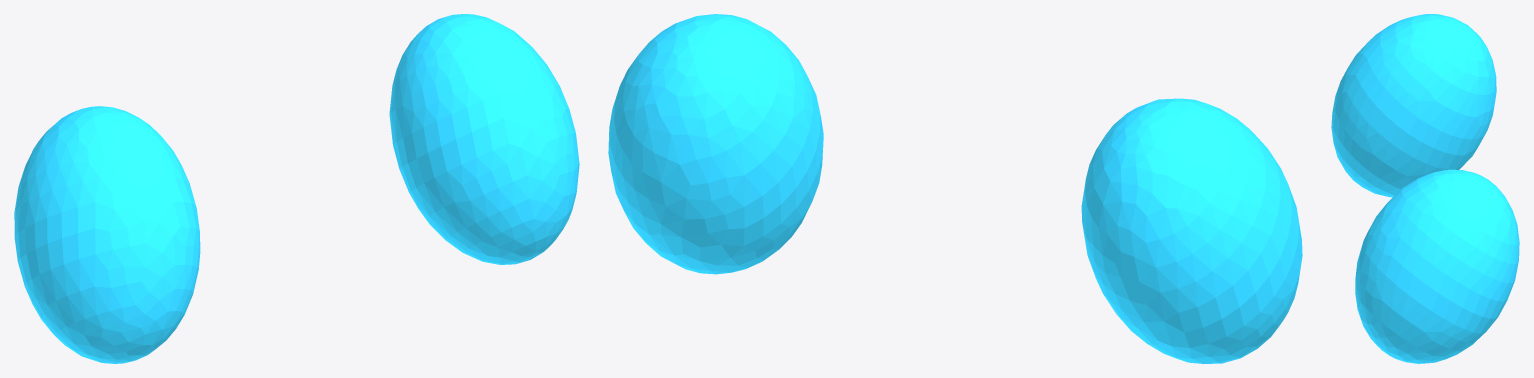
3 views of the same model, side by side, from view 1: azimuth 30°, elevation 25°; view 2: azimuth 150°, elevation 25°; view 3: azimuth 270°, elevation 25° (orthographic). The views are drawn at different scales.
Parts seen in each view (by area): view 1: Sphere; view 2: Sphere; view 3: Sphere.
Boxes of the visible parts, left/top/right/bottom form: Sphere: left=14, top=14, right=579, bottom=363; Sphere: left=608, top=14, right=1302, bottom=363; Sphere: left=1331, top=14, right=1519, bottom=363.
Size of the model in its own units: 140 by 57.64 by 52.35.
